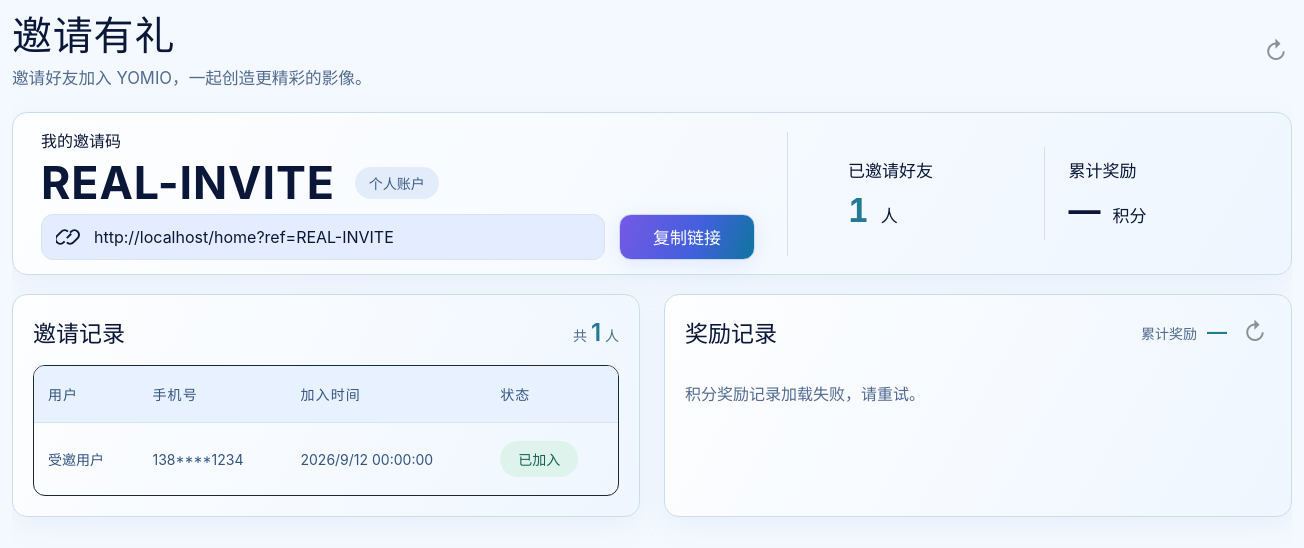
loads real owner reward pages and keeps a failed response as an error
Expected: the text "积分奖励记录加载失败，请重试。" is shown, [685,384,925,404]
Expected: the text "暂无积分奖励记录" is not shown
What coordinates should you click on to do the following:
click the button named "刷新积分记录"
I would click on:
 (1255, 332)
Its box is [1239,316,1271,348].
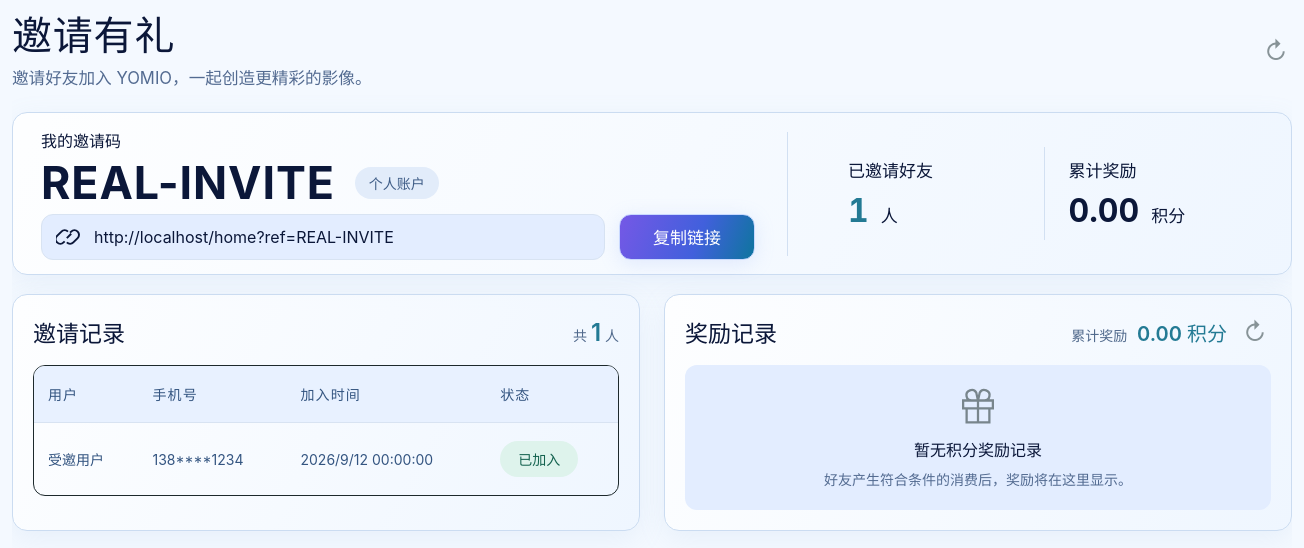
Expected: the text "暂无积分奖励记录" is shown, [914,437,1042,461]
